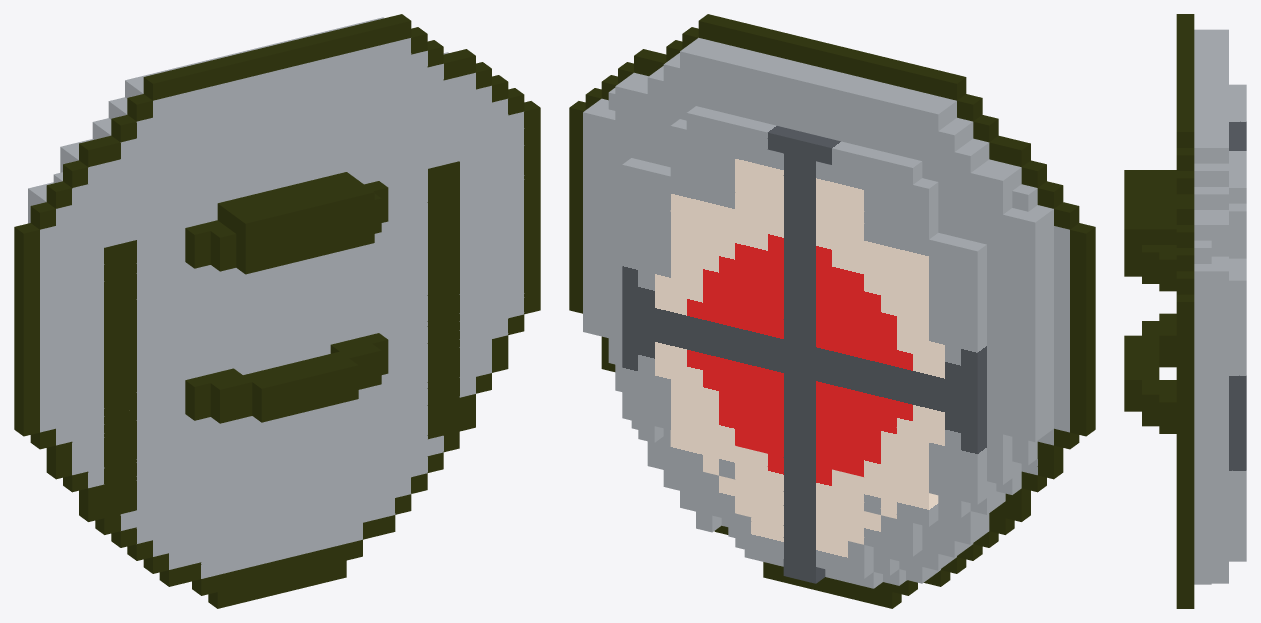
The model's file is 混沌锚点.gltf.
3 renders of one model, left to right at view 1: azimuth 30°, elevation 25°; view 2: azimuth 150°, elevation 25°; view 3: azimuth 270°, elevation 25°, orthographic. The views are drawn at different scales.
Parts seen in each view (by area): view 1: Object; view 2: Object; view 3: Object.
Part boxes in pixels (x1,y1,x2,y2): Object: (14,14,540,608); Object: (569,14,1095,608); Object: (1124,14,1246,608).
Bounding box in the file's own units: 32 × 32 × 7.
1 material, 1 textured.
